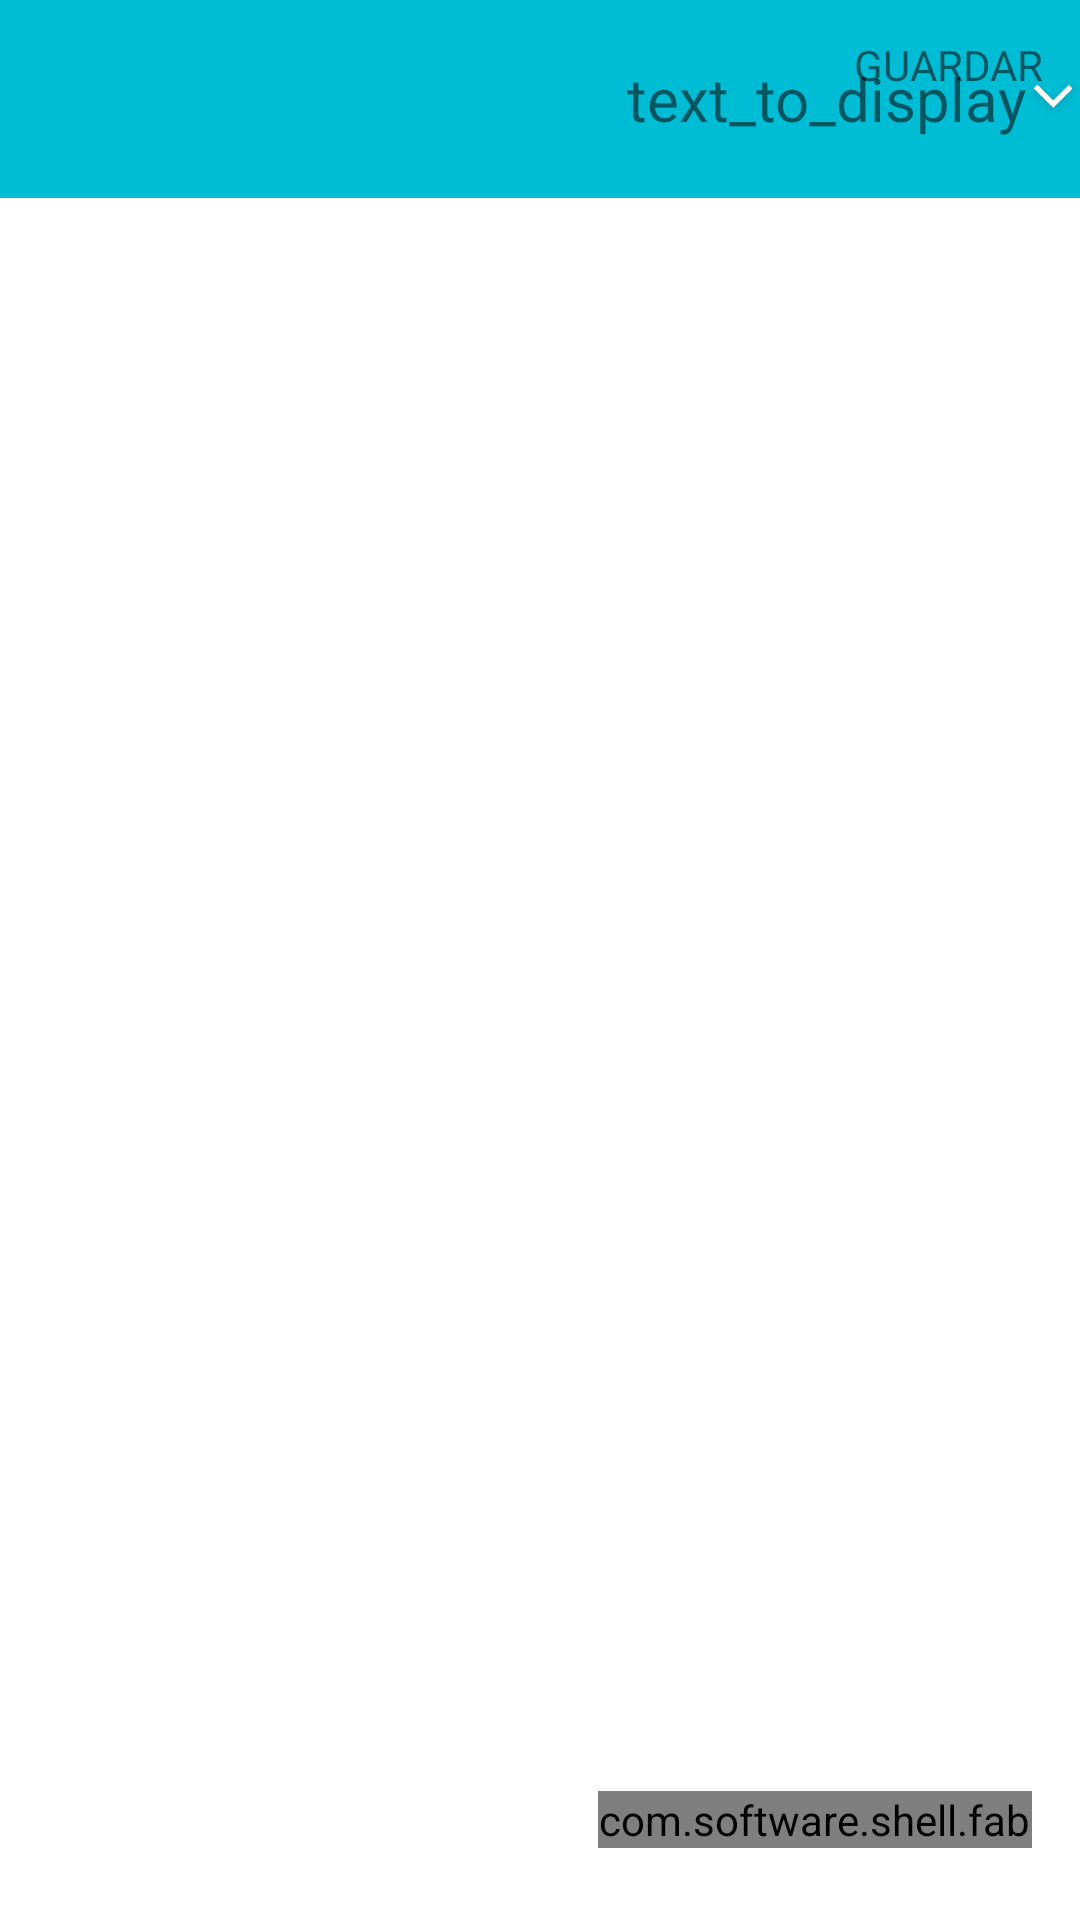

Point at icon controls on the screen. Image size 1080 x 1920, points as [x,y].
chevron down: [1053,96]
